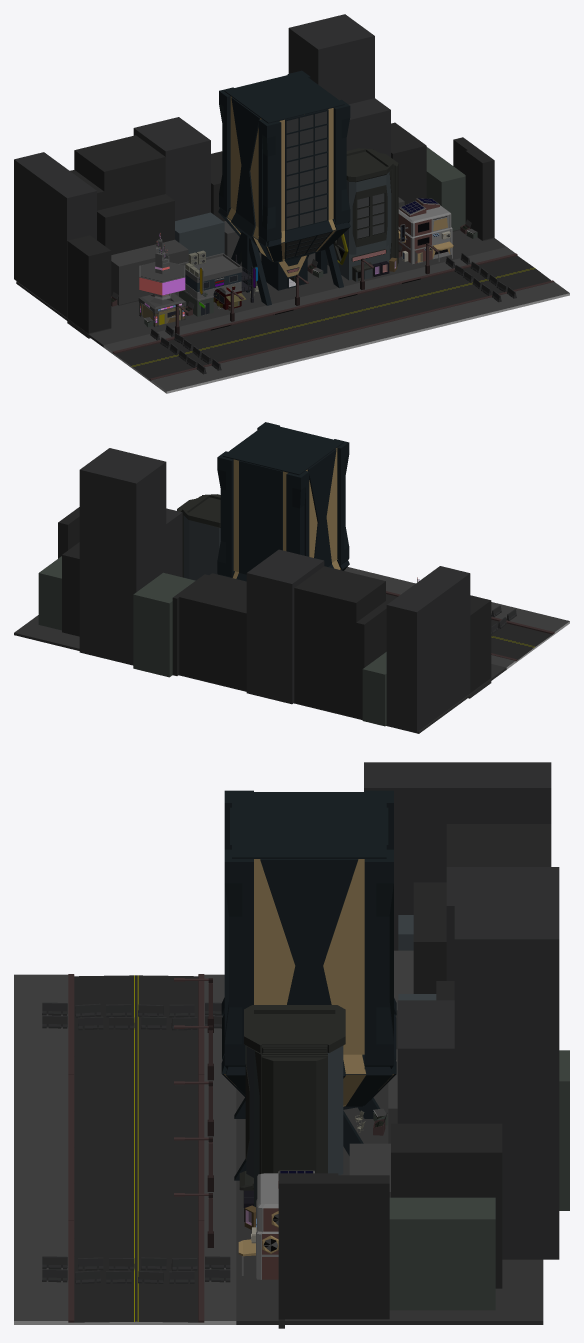
Rendered from CybP-FullLevel.fbx.
3 renders of one model, top to bottom at view 1: azimuth 30°, elevation 25°; view 2: azimuth 150°, elevation 25°; view 3: azimuth 270°, elevation 25°, orthographic. The views are drawn at different scales.
Parts seen in each view (by area): view 1: pCube1, CybP_Road, CybP_NewApt, CybP_OldApt, CybP_DoubleBuilding, CybP_Laundro, CybP_PawnShop; view 2: pCube1, CybP_NewApt, CybP_Road, CybP_OldApt; view 3: pCube1, CybP_Road, CybP_NewApt, CybP_OldApt, CybP_Laundro, CybP_RoadBlock1, CybP_RoadBlock3, CybP_RoadBlock2, CybP_RoadBlock4.
Boxes of the visible parts, x1=… form: pCube1: x1=14, y1=14, x2=494, y2=338; CybP_Road: x1=16, y1=230, x2=569, y2=393; CybP_NewApt: x1=218, y1=70, x2=350, y2=305; CybP_OldApt: x1=327, y1=148, x2=398, y2=281; CybP_DoubleBuilding: x1=179, y1=250, x2=258, y2=316; CybP_Laundro: x1=398, y1=198, x2=453, y2=264; CybP_PawnShop: x1=138, y1=232, x2=186, y2=327; pCube1: x1=38, y1=448, x2=491, y2=732; CybP_NewApt: x1=217, y1=422, x2=349, y2=581; CybP_Road: x1=14, y1=567, x2=569, y2=733; CybP_OldApt: x1=177, y1=494, x2=220, y2=580; pCube1: x1=278, y1=762, x2=569, y2=1328; CybP_Road: x1=14, y1=974, x2=543, y2=1324; CybP_NewApt: x1=221, y1=790, x2=396, y2=1180; CybP_OldApt: x1=239, y1=1005, x2=345, y2=1229; CybP_Laundro: x1=238, y1=1170, x2=314, y2=1279; CybP_RoadBlock1: x1=42, y1=1256, x2=230, y2=1271; CybP_RoadBlock3: x1=42, y1=1269, x2=230, y2=1284; CybP_RoadBlock2: x1=42, y1=1002, x2=221, y2=1017; CybP_RoadBlock4: x1=42, y1=1015, x2=222, y2=1030.
Bounding box in the file's own units: 80.61 × 36.03 × 54.65.
